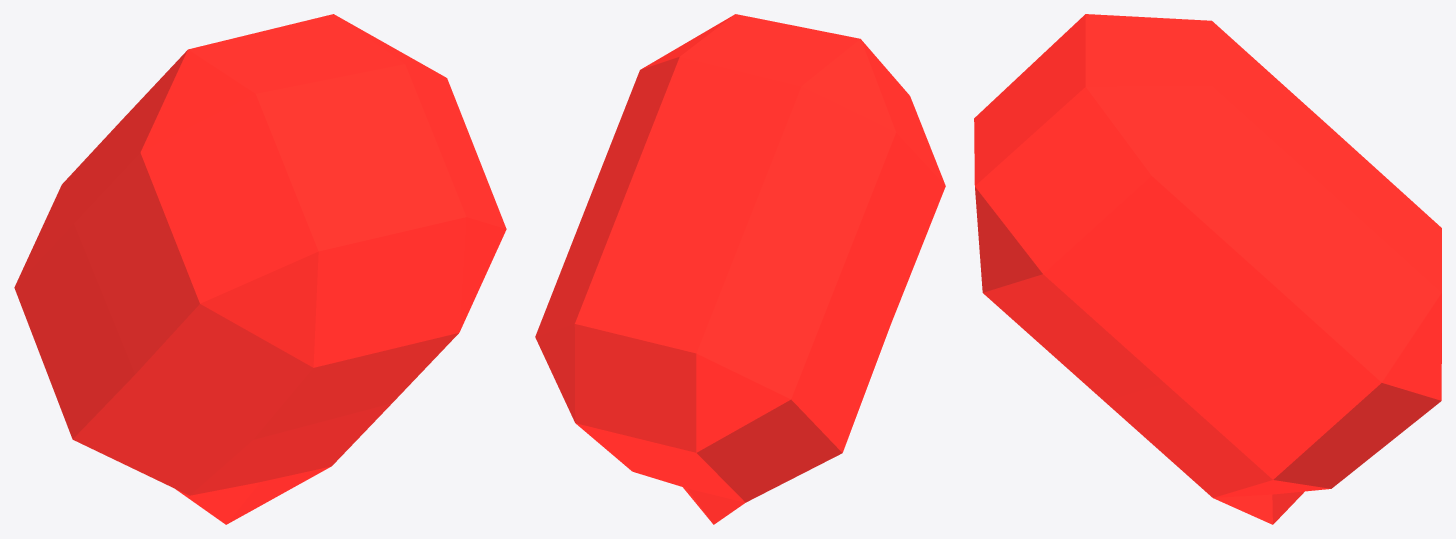
Rendered from heart.glb.
The picture shows the model from 3 angles, left to right: view 1: azimuth 30°, elevation 25°; view 2: azimuth 150°, elevation 25°; view 3: azimuth 270°, elevation 25°; orthographic projection. The views are drawn at different scales.
Parts seen in each view (by area): view 1: Cube; view 2: Cube; view 3: Cube.
Part boxes in pixels (left/top/right/bottom): Cube: left=14, top=14, right=506, bottom=524; Cube: left=535, top=14, right=945, bottom=524; Cube: left=974, top=14, right=1441, bottom=524.
Bounding box in the file's own units: 2.01 × 3.27 × 2.9.
